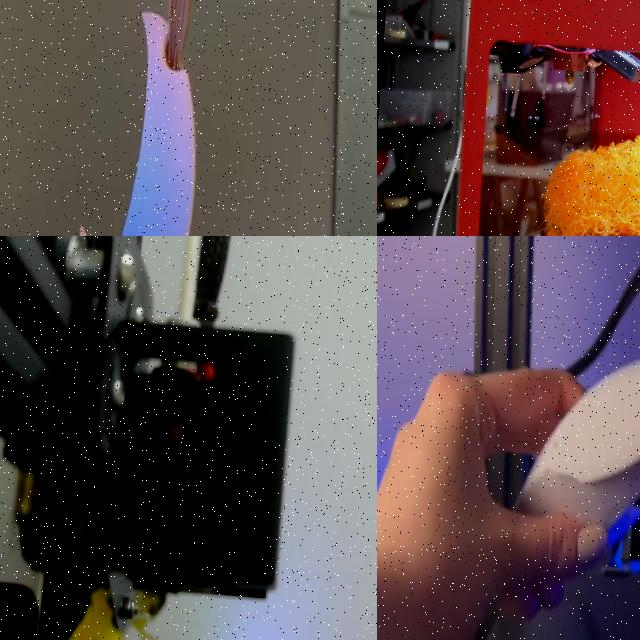spaghetti: (522, 65, 640, 236), (55, 578, 195, 640)
